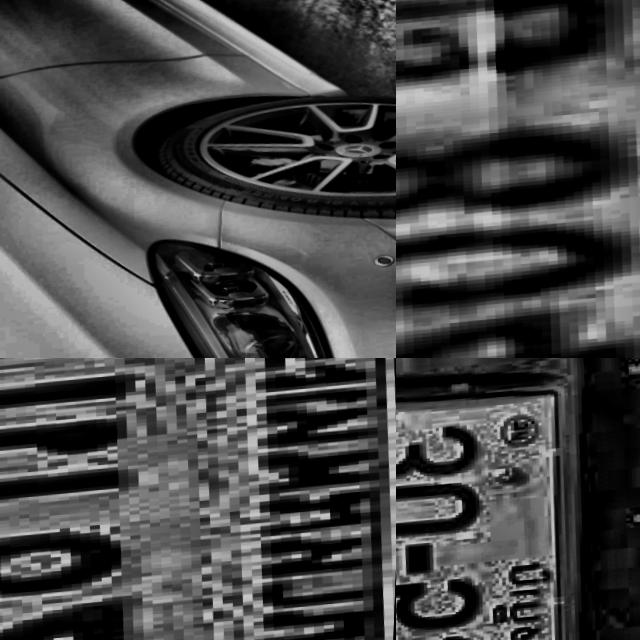license-plate: (0, 358, 396, 640), (396, 0, 640, 358), (396, 358, 623, 640)
